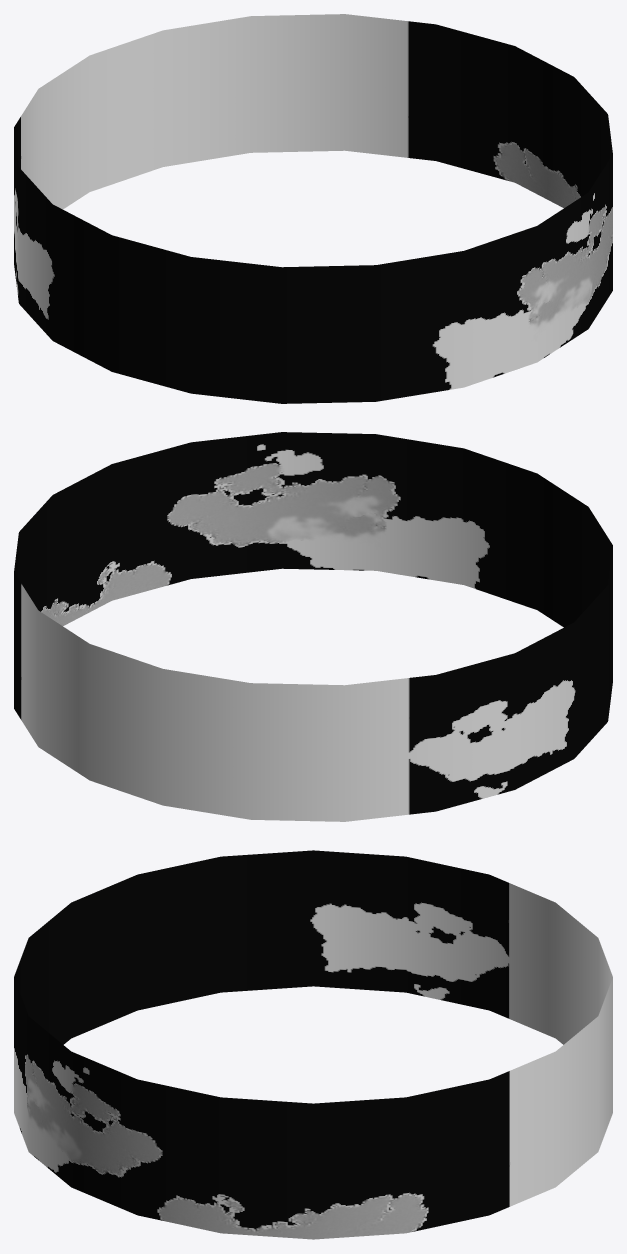
Rendered from cloudCyc.fbx.
3 views of the same model, one above another, from view 1: azimuth 30°, elevation 25°; view 2: azimuth 150°, elevation 25°; view 3: azimuth 270°, elevation 25° (orthographic).
Visible parts, largest first — view 1: pCylinder1; view 2: pCylinder1; view 3: pCylinder1.
Boxes of the visible parts, <box> form: pCylinder1: <box>14,14,612,403</box>; pCylinder1: <box>14,432,612,821</box>; pCylinder1: <box>14,850,612,1239</box>.
Bounding box in the file's own units: 16477 × 4127 × 16477.
Materials: 1 (1 with a texture image).
